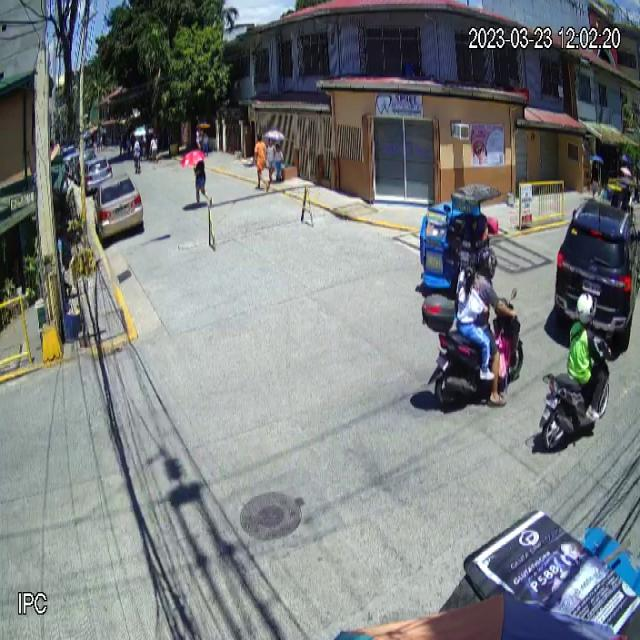Motorcycle: (537, 331, 613, 453)
Tricycle: (418, 182, 502, 291)
